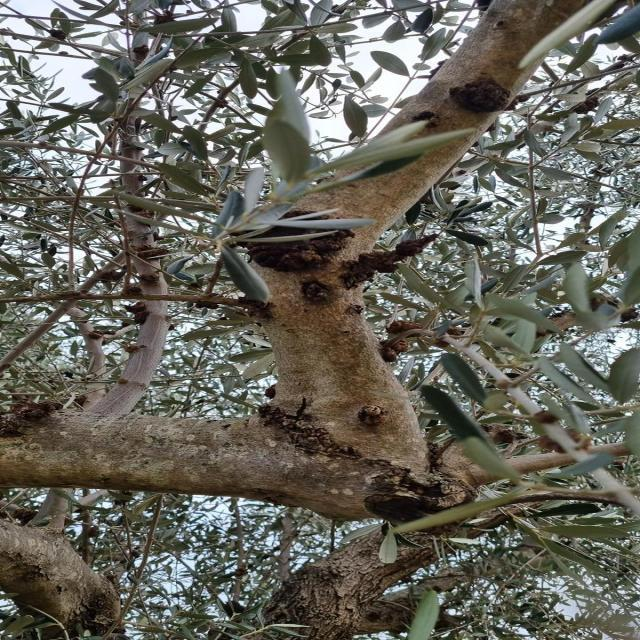Tuberculosis: (339, 234, 438, 290), (238, 229, 354, 272), (450, 78, 529, 114), (0, 398, 61, 437), (379, 321, 432, 361), (300, 278, 330, 304), (122, 301, 150, 326), (128, 245, 165, 262), (260, 227, 306, 240), (88, 328, 122, 344), (98, 268, 124, 284), (140, 269, 164, 284), (124, 284, 142, 297), (195, 301, 216, 310)
